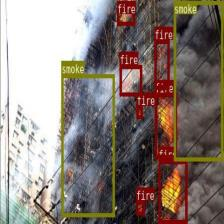fire: (158, 160, 187, 222), (154, 92, 177, 158), (154, 39, 169, 89), (119, 64, 142, 96), (116, 0, 134, 24), (136, 200, 144, 214), (136, 105, 142, 118)
smoke: (173, 0, 223, 160), (61, 73, 114, 216)
